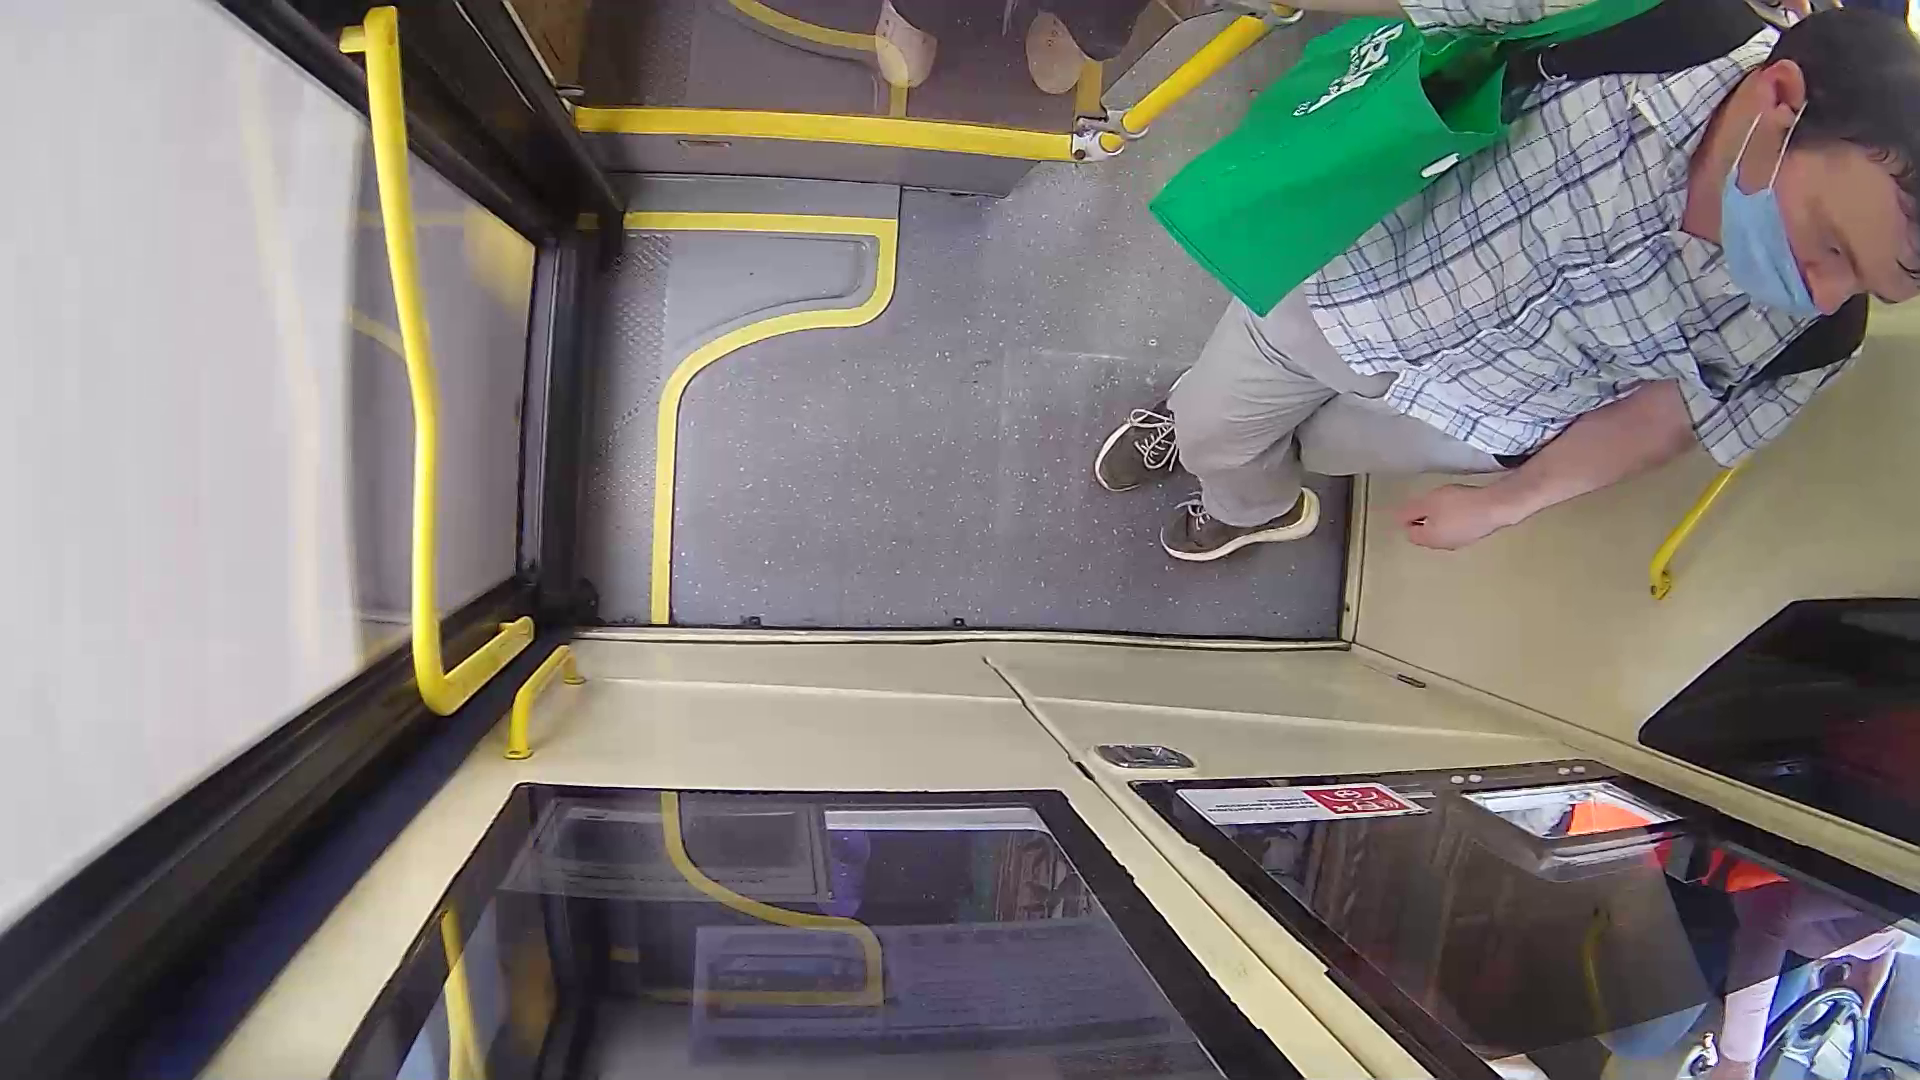person: (1192, 17, 1907, 610)
